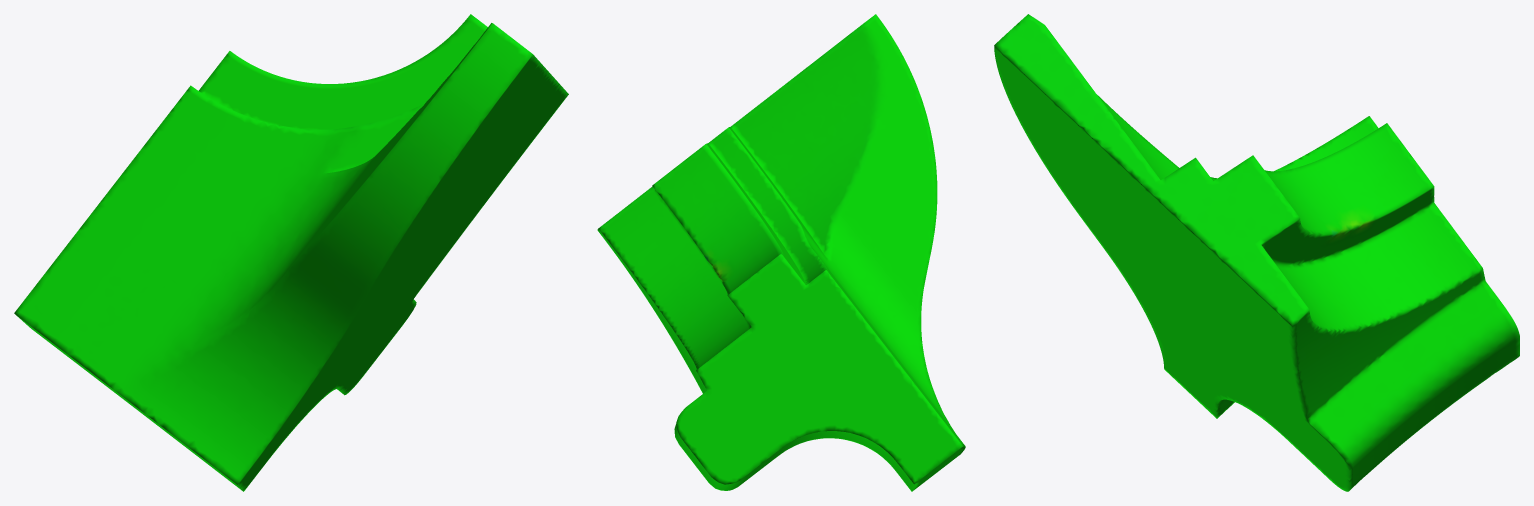
The model's file is all=0.000035-hole=0.000769-mgcn-w-vu.obj.
3 views of the same model, side by side, from view 1: azimuth 30°, elevation 25°; view 2: azimuth 150°, elevation 25°; view 3: azimuth 270°, elevation 25° (orthographic). The views are drawn at different scales.
Size of the model in its own units: 83.98 by 79.2 by 79.93.
